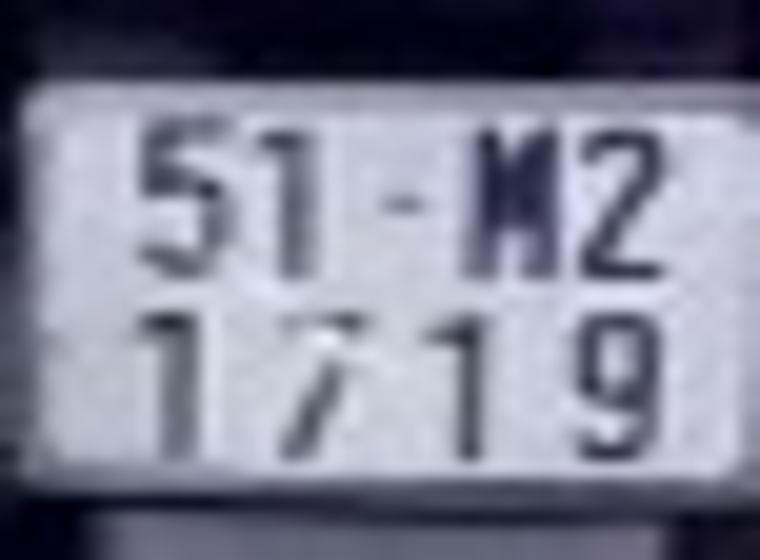-: (378, 191, 425, 219)
1: (428, 307, 493, 467), (139, 300, 202, 462), (261, 115, 321, 273)
2: (579, 120, 678, 282)
5: (136, 116, 243, 282)
7: (278, 302, 368, 484)
9: (574, 307, 662, 471)
M: (464, 122, 565, 283)
